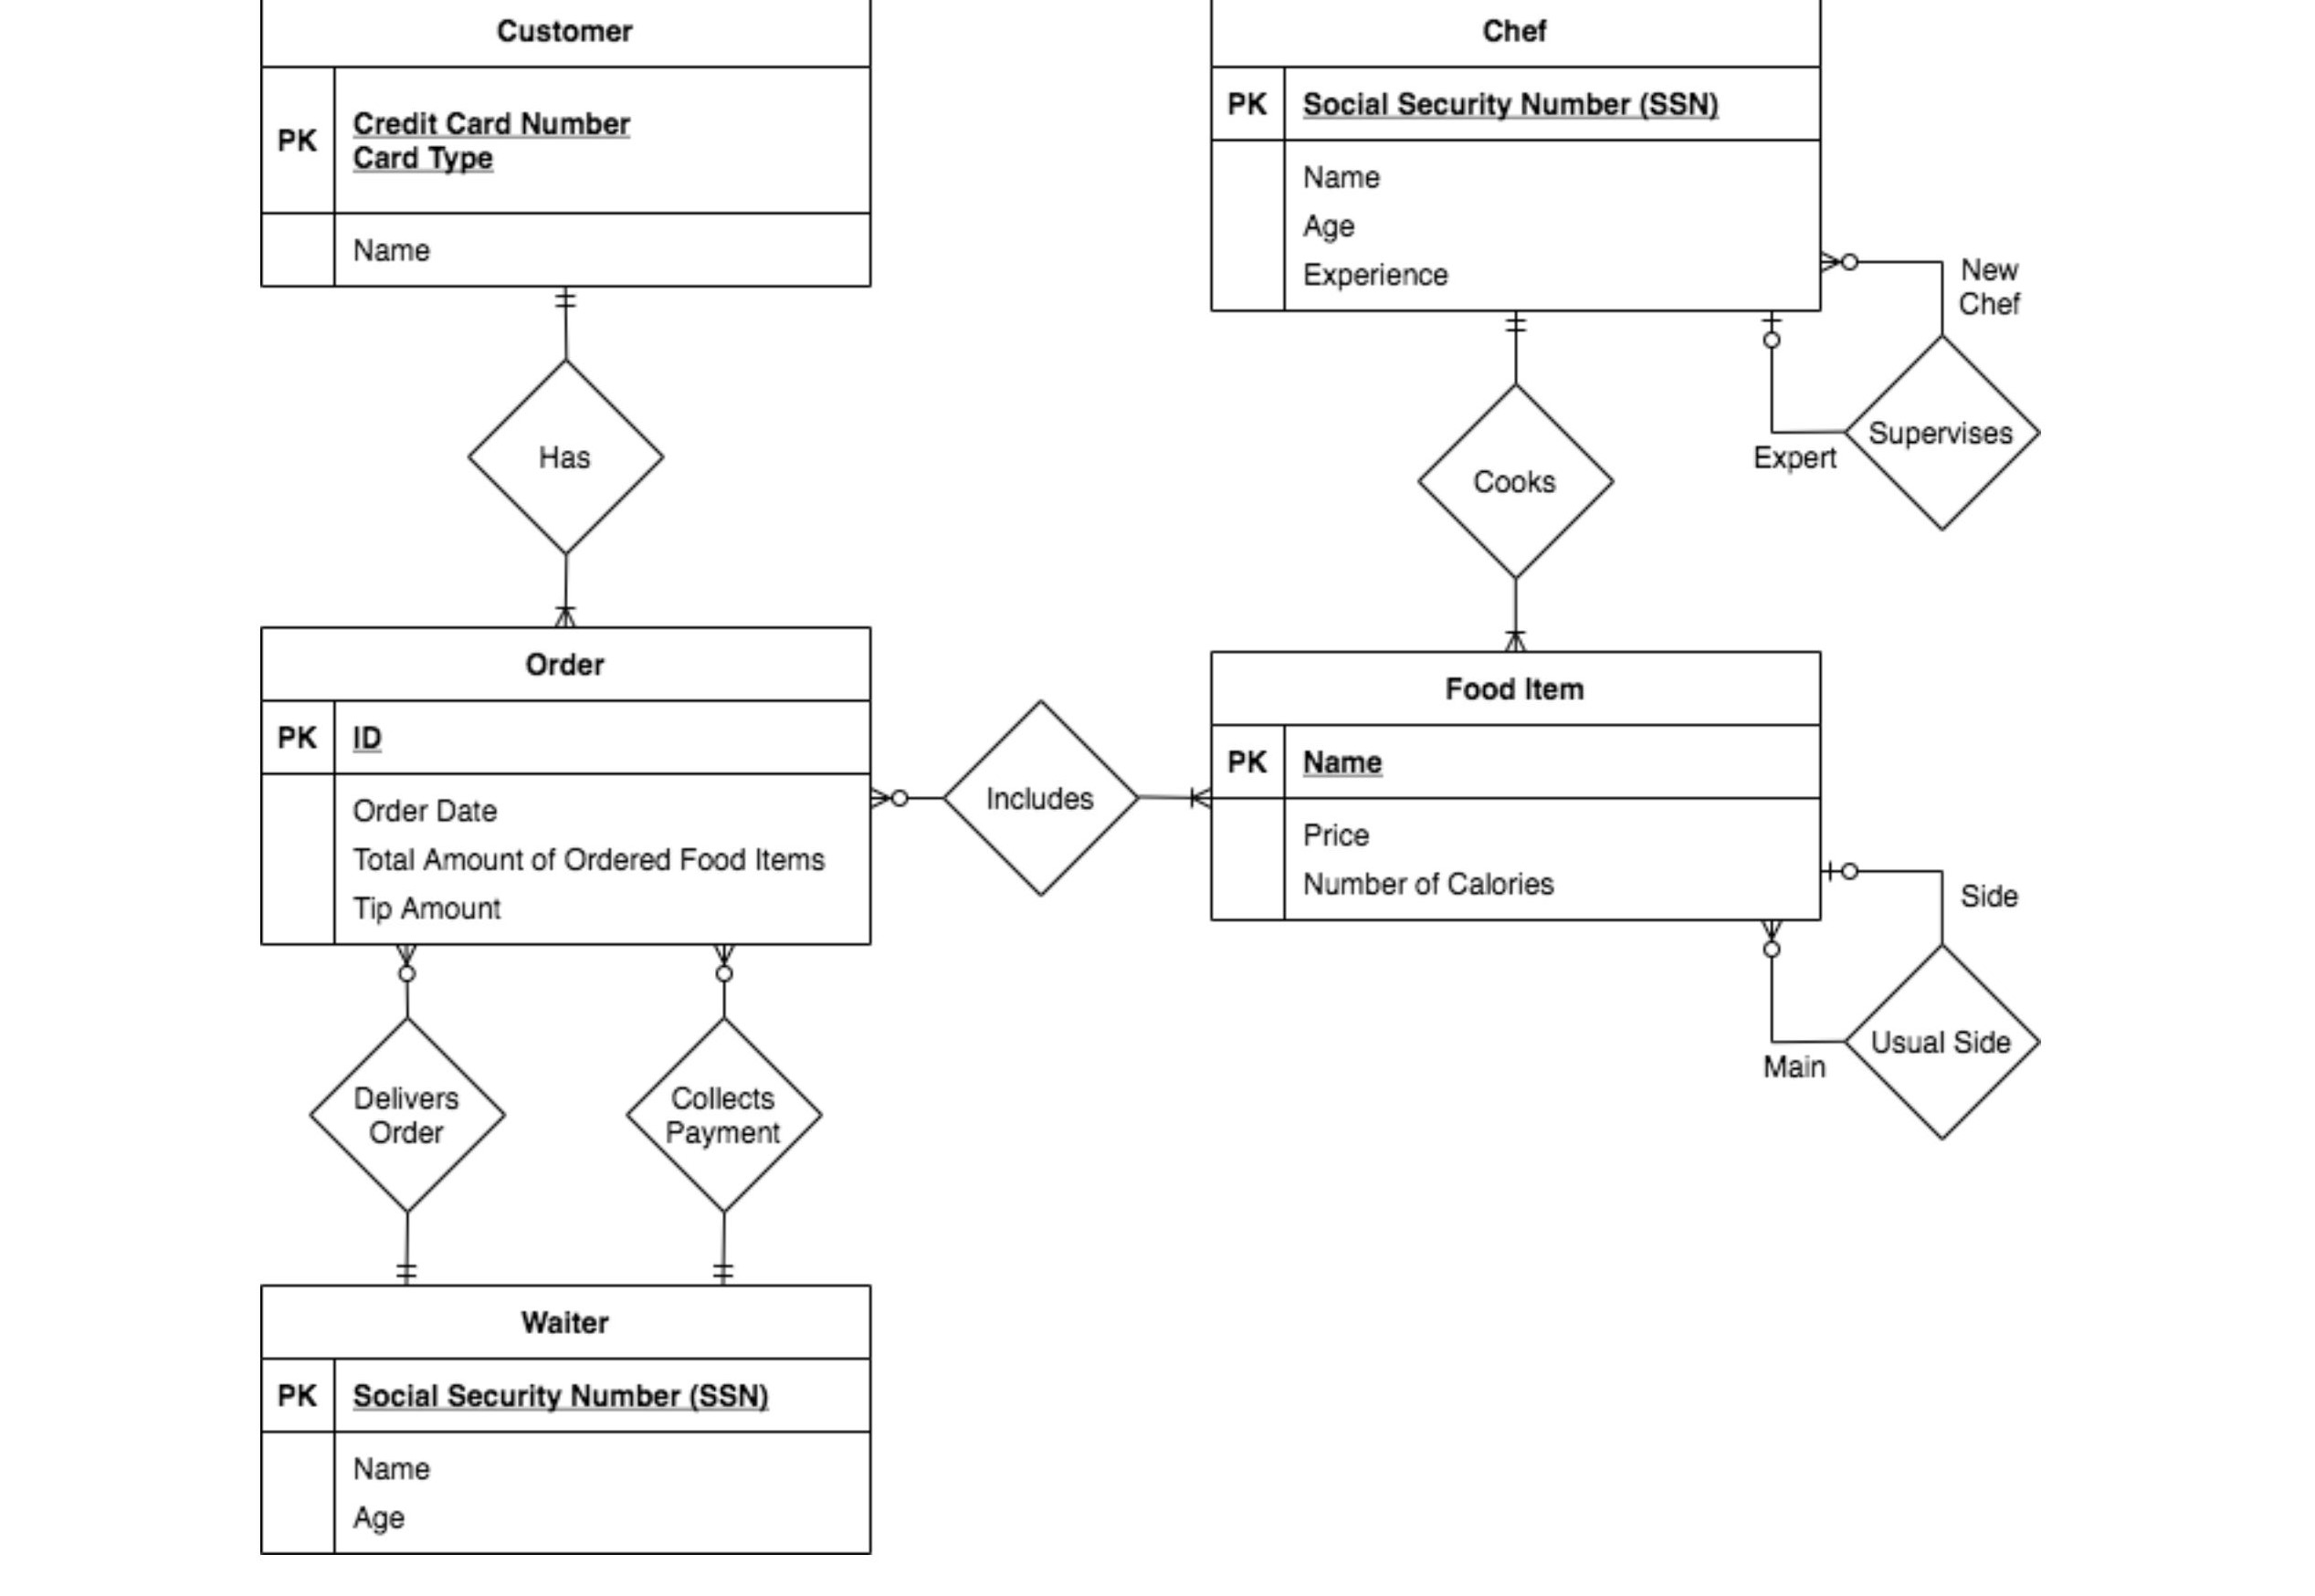Entity: (259, 623, 873, 948), (1210, 2, 1822, 313), (257, 2, 876, 290), (1209, 649, 1824, 924), (260, 1283, 873, 1557)
Relationship: (468, 357, 667, 558), (943, 699, 1140, 899), (1844, 945, 2042, 1142), (308, 1017, 508, 1212), (1418, 382, 1615, 579), (624, 1019, 825, 1212), (1847, 334, 2041, 533)
